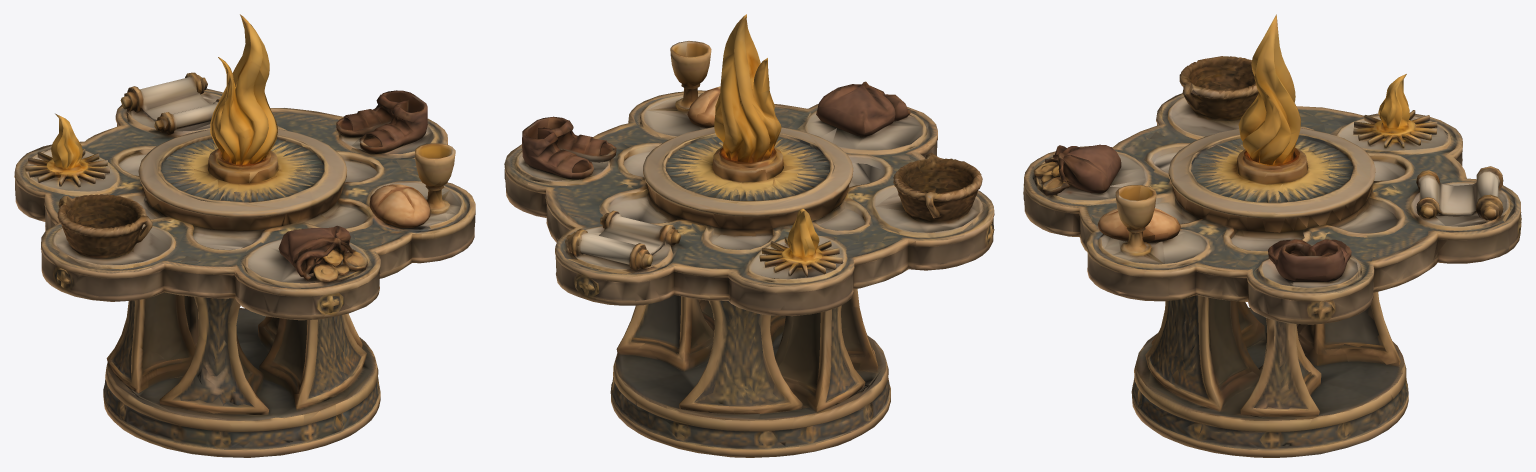
The model's file is circular-table-regions.glb.
3 renders of one model, left to right at view 1: azimuth 30°, elevation 25°; view 2: azimuth 150°, elevation 25°; view 3: azimuth 270°, elevation 25°, orthographic.
Parts seen in each view (by area): view 1: Table_sector_6, Table_sector_1, Table_sector_5, Table_sector_2, Table_sector_3, Table_sector_4; view 2: Table_sector_5, Table_sector_4, Table_sector_3, Table_sector_6, Table_sector_1, Table_sector_2; view 3: Table_sector_2, Table_sector_3, Table_sector_4, Table_sector_1, Table_sector_6, Table_sector_5.
Boxes of the visible parts, x1,y1,x2,y2 form: Table_sector_6: (41, 59, 272, 457); Table_sector_1: (226, 23, 424, 457); Table_sector_5: (14, 51, 249, 429); Table_sector_2: (242, 23, 475, 425); Table_sector_3: (236, 14, 447, 352); Table_sector_4: (80, 15, 264, 359); Table_sector_5: (735, 58, 963, 457); Table_sector_4: (555, 14, 759, 457); Table_sector_3: (504, 17, 746, 426); Table_sector_6: (747, 53, 994, 427); Table_sector_1: (744, 29, 937, 355); Table_sector_2: (593, 20, 774, 362); Table_sector_2: (1086, 20, 1285, 457); Table_sector_3: (1248, 14, 1457, 457); Table_sector_4: (1251, 16, 1521, 429); Table_sector_1: (1023, 58, 1263, 429); Table_sector_6: (1111, 56, 1266, 363); Table_sector_5: (1251, 74, 1462, 354).
Size of the model in its own units: 1.17 by 1.01 by 1.18.
1 material, 1 textured.
